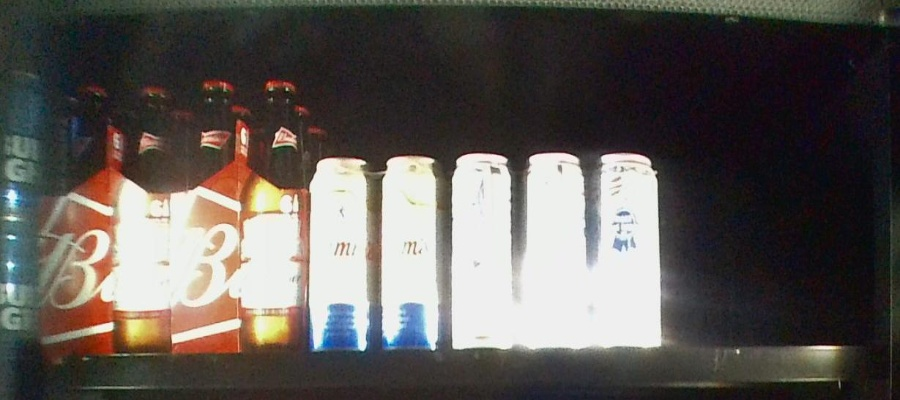bottle: (453, 149, 663, 351), (175, 80, 306, 354), (49, 82, 174, 350), (311, 154, 442, 358)
